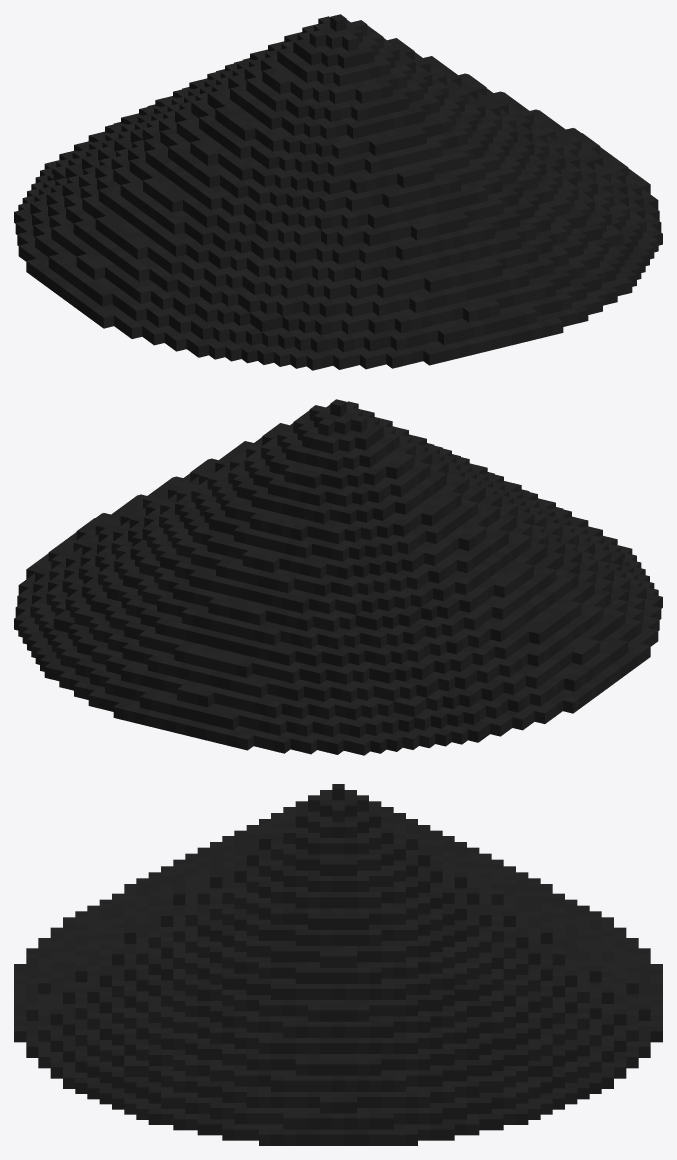
Rendered from farm-0-windmill_roof.obj.
3 renders of one model, top to bottom at view 1: azimuth 30°, elevation 25°; view 2: azimuth 150°, elevation 25°; view 3: azimuth 270°, elevation 25°, orthographic. The views are drawn at different scales.
Parts seen in each view (by area): view 1: windmill_roof; view 2: windmill_roof; view 3: windmill_roof.
Part boxes in pixels (box(x1,y1,x2,y2)): windmill_roof: box(14, 14, 662, 370); windmill_roof: box(14, 399, 662, 755); windmill_roof: box(14, 784, 662, 1145).
Size of the model in its own units: 5.3 by 2 by 5.3.
Materials: 1 (1 with a texture image).
